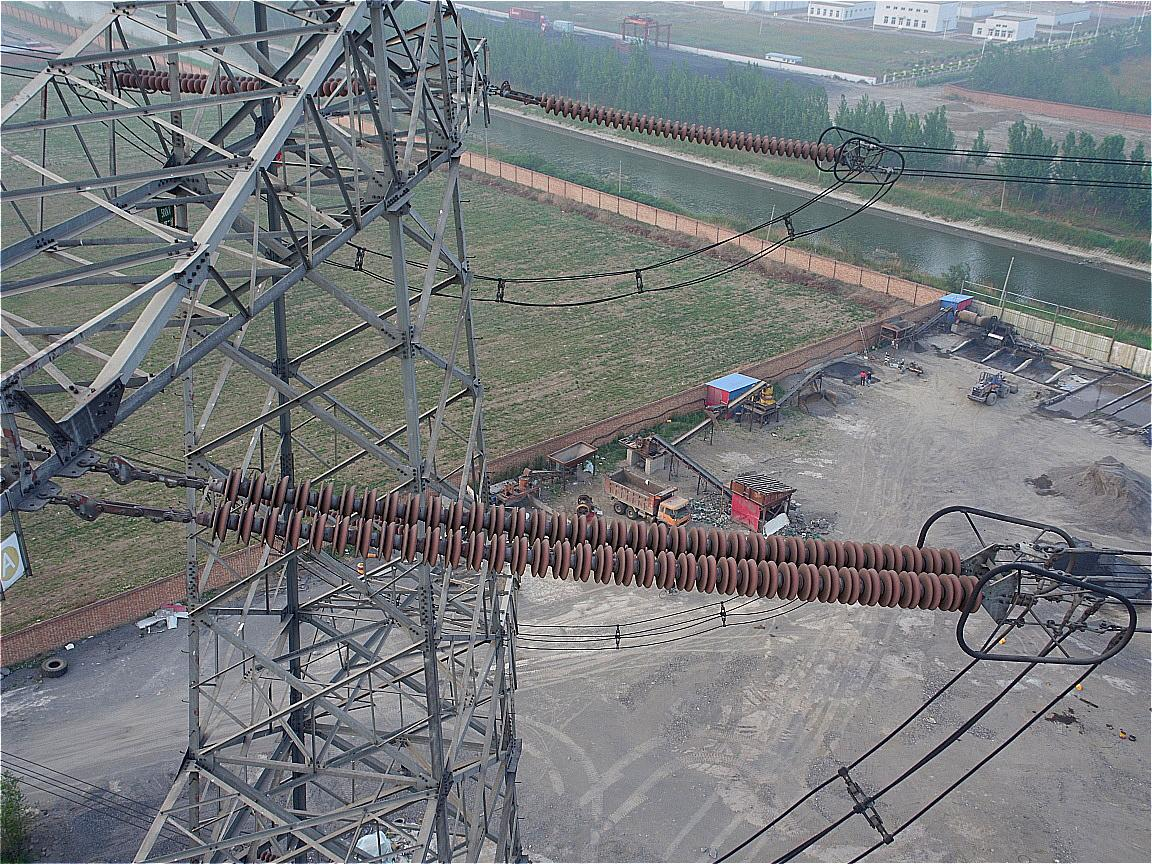insultor1: (542, 92, 836, 161)
insultor2: (212, 471, 981, 613)
